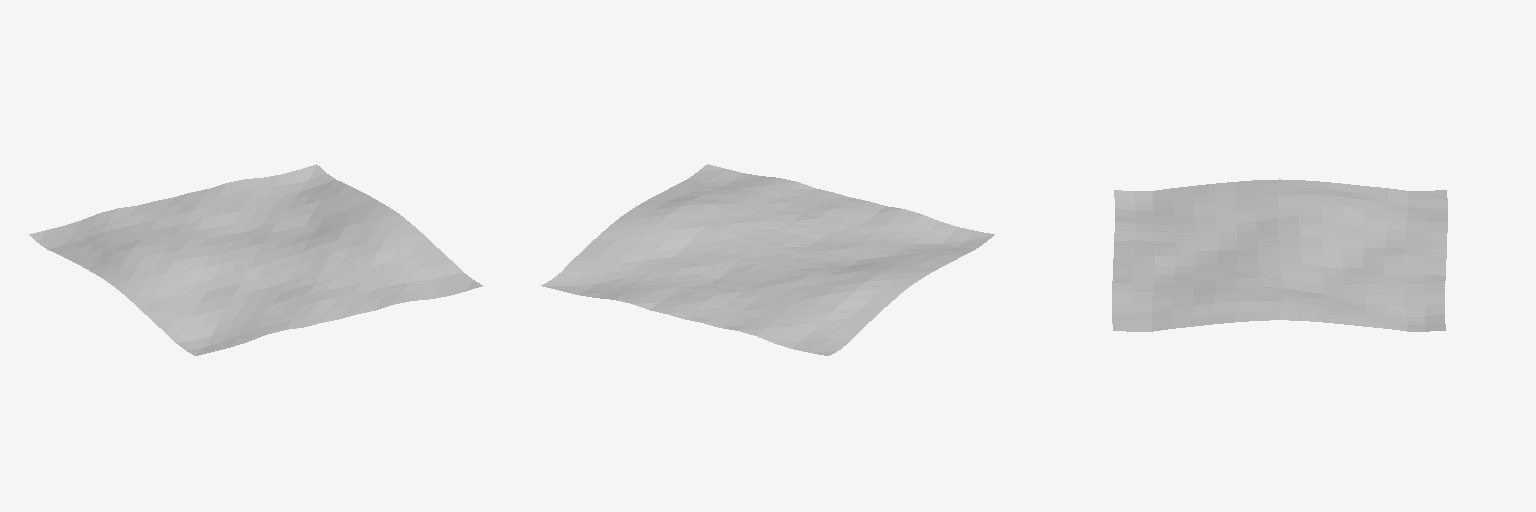
The model's file is water_000005.obj.
3 views of the same model, side by side, from view 1: azimuth 30°, elevation 25°; view 2: azimuth 150°, elevation 25°; view 3: azimuth 270°, elevation 25° (orthographic).
Visible parts, largest first — view 1: Plan.003_Plan.001; view 2: Plan.003_Plan.001; view 3: Plan.003_Plan.001.
Boxes of the visible parts, x1=… form: Plan.003_Plan.001: x1=29, y1=164, x2=482, y2=355; Plan.003_Plan.001: x1=541, y1=164, x2=994, y2=355; Plan.003_Plan.001: x1=1112, y1=179, x2=1447, y2=331.
Bounding box in the file's own units: 60512 × 3191 × 61020.